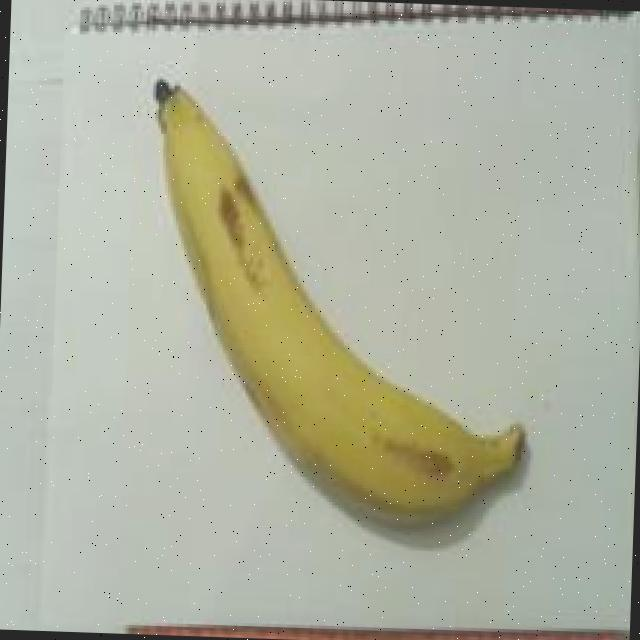banana: (97, 36, 561, 618)
